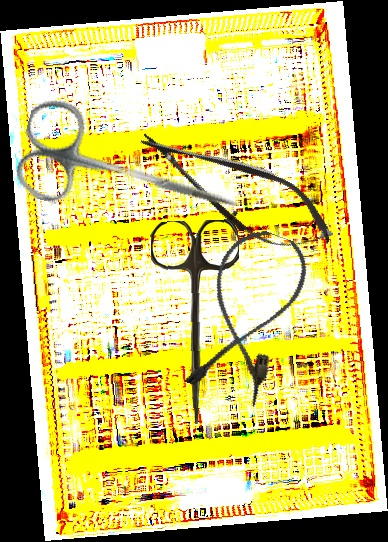Cannula: (178, 220, 317, 409)
Iris Scissors: (9, 93, 253, 250), (149, 219, 246, 425)
Micro Scissor: (126, 109, 345, 271)
